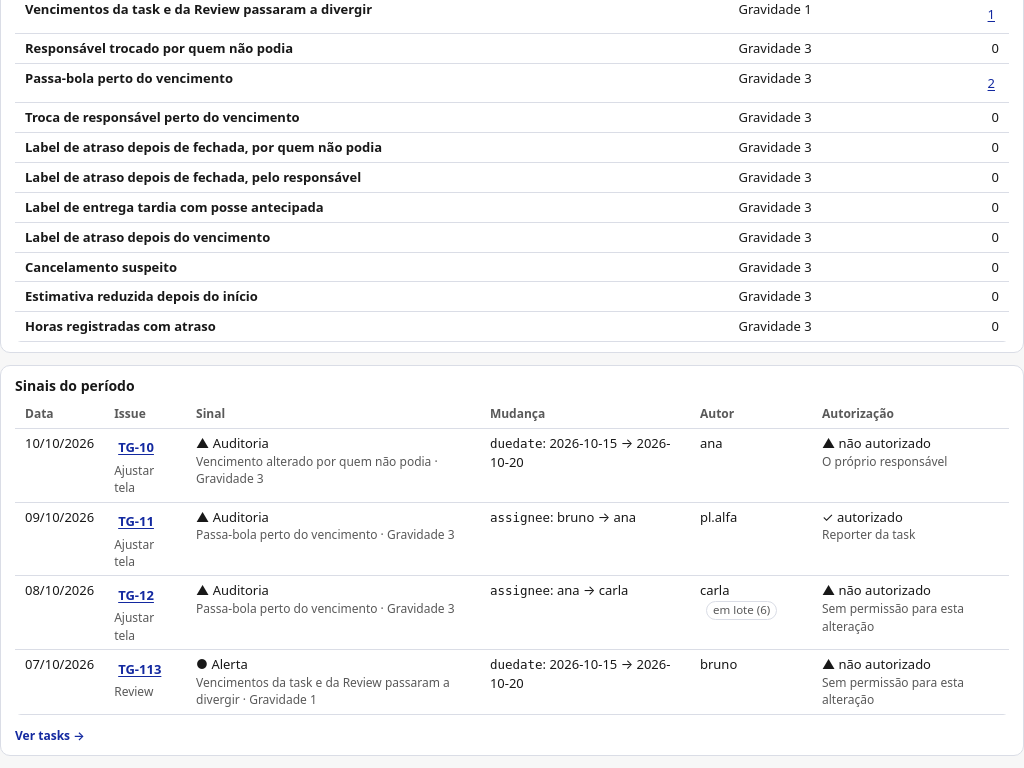
Test: tela Auditoria › clicarNoSinalAbreHistorico
(page scrolled)
Click the button "TG-10": (136, 448) [114,434,158,462]
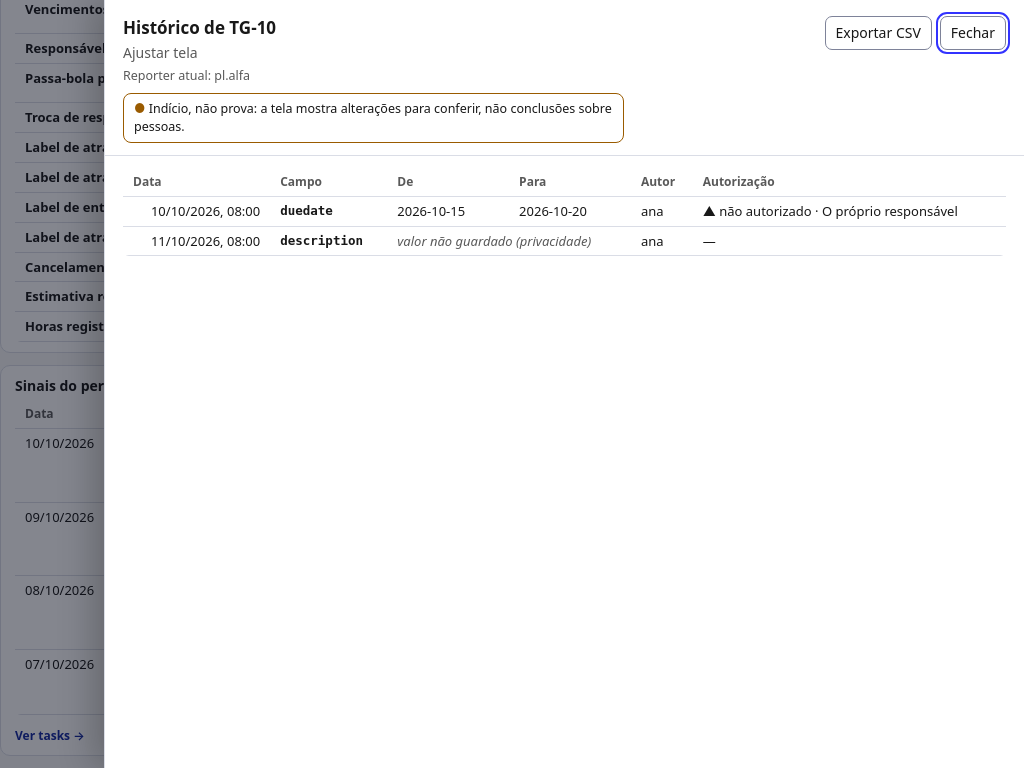
Expected: the text "2026-10-15" is shown, [387,196,509,226]
Expected: the text "valor não guardado (privacidade)" is shown, [387,226,631,256]
Expected: the text "Indício, não prova" is shown, [134,100,612,135]
# Esc fecha e devolve o foco à chave
Press Escape
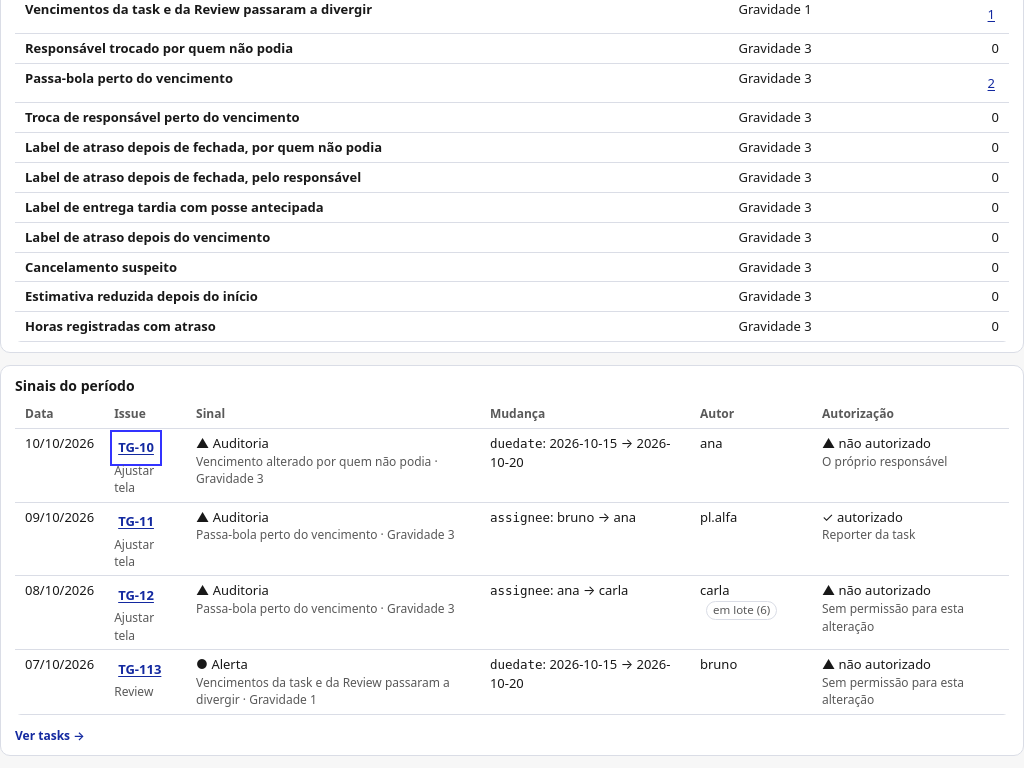
Expected: the dialog is gone
